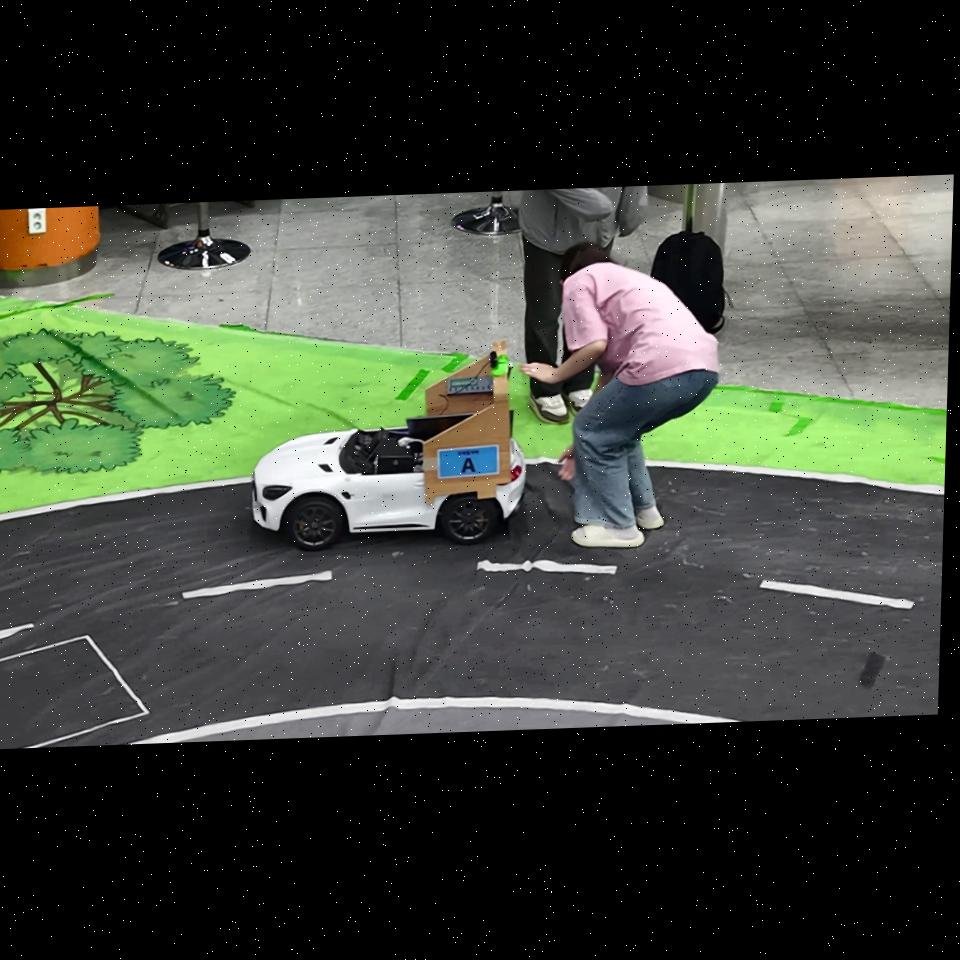broken_line: (760, 580, 914, 609), (182, 571, 332, 599), (477, 560, 617, 574), (0, 623, 34, 640)
